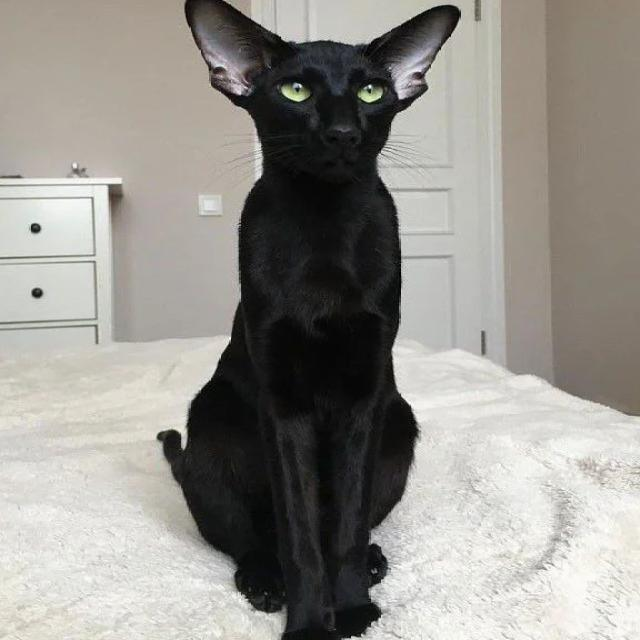Oriental: (152, 0, 467, 640)
